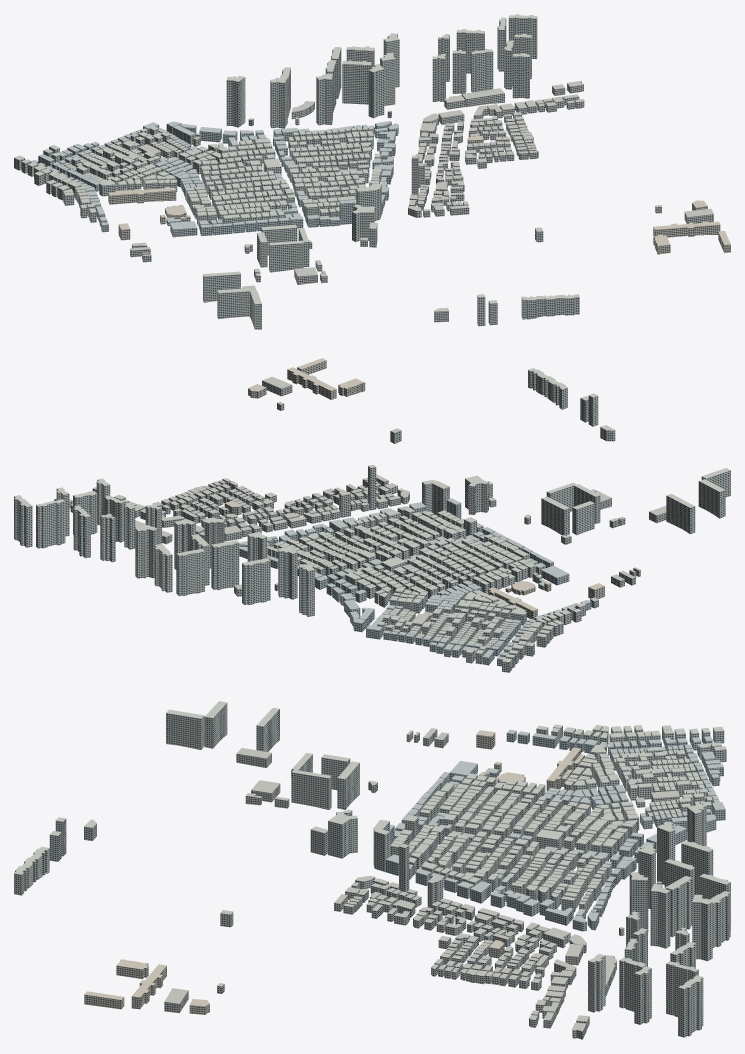
The model's file is city_6_4.glb.
3 renders of one model, top to bottom at view 1: azimuth 30°, elevation 25°; view 2: azimuth 150°, elevation 25°; view 3: azimuth 270°, elevation 25°, orthographic. The views are drawn at different scales.
Size of the model in its own units: 1024 by 93.27 by 1027.
Materials: 5 (5 with a texture image).
